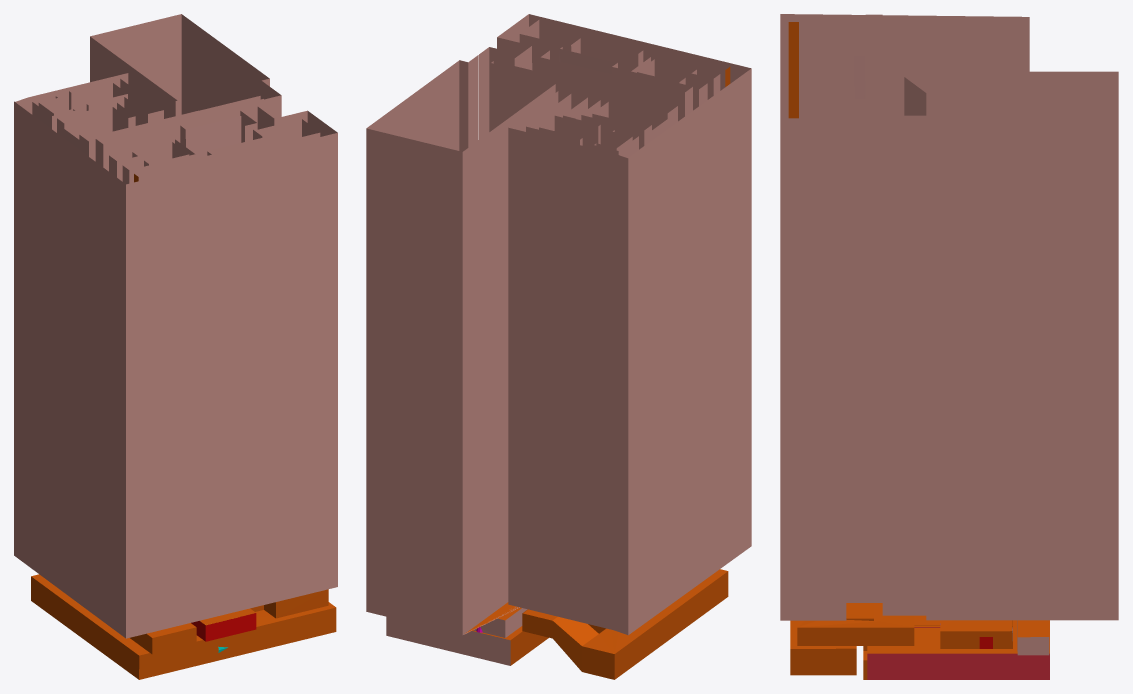
Rendered from AcuMap.fbx.
3 renders of one model, left to right at view 1: azimuth 30°, elevation 25°; view 2: azimuth 150°, elevation 25°; view 3: azimuth 270°, elevation 25°, orthographic. The views are drawn at different scales.
Parts seen in each view (by area): view 1: Plane; view 2: Plane; view 3: Plane.
Boxes of the visible parts, bbox=[...] form: Plane: bbox=[14, 14, 337, 679]; Plane: bbox=[366, 14, 751, 679]; Plane: bbox=[780, 14, 1118, 679].
Size of the model in its own units: 17.93 by 38.96 by 21.16.
